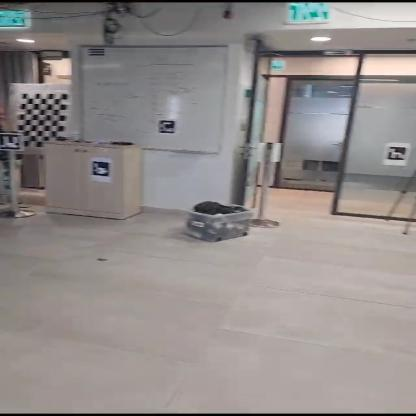open: (253, 45, 369, 231)
